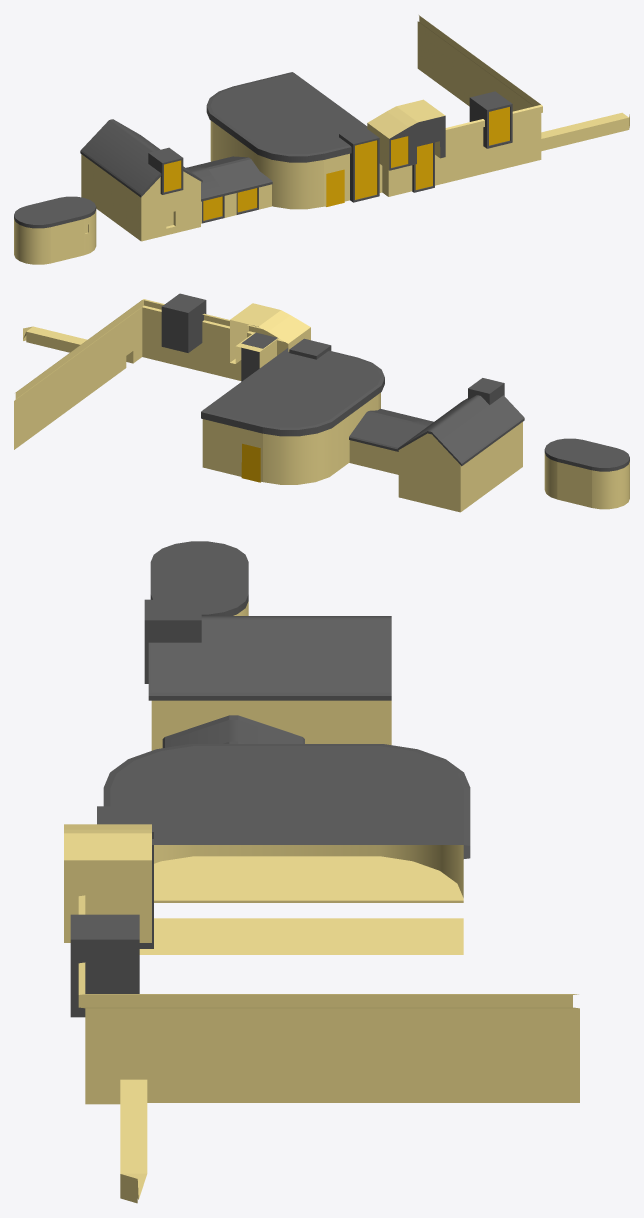
Rendered from fytojet.FBX.
3 views of the same model, one above another, from view 1: azimuth 30°, elevation 25°; view 2: azimuth 150°, elevation 25°; view 3: azimuth 270°, elevation 25° (orthographic). The views are drawn at different scales.
Parts seen in each view (by area): view 1: fyrt; view 2: fyrt; view 3: fyrt.
Boxes of the visible parts, x1,y1,x2,y2 form: fyrt: (14, 15, 629, 264); fyrt: (14, 293, 629, 512); fyrt: (64, 541, 579, 1203).
Size of the model in its own units: 1037 by 126 by 388.
